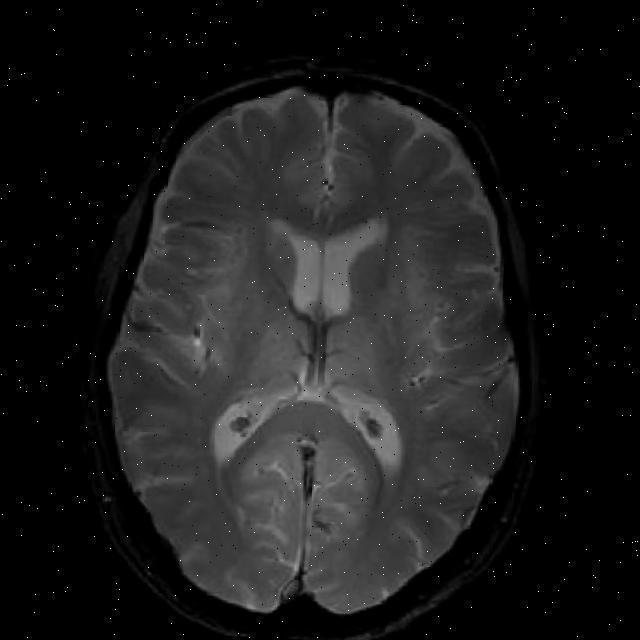MCI: (372, 302, 380, 313)
